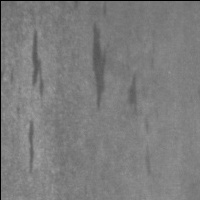inclusion: (85, 16, 116, 112), (124, 67, 159, 144), (25, 18, 51, 106), (21, 115, 47, 176), (140, 140, 159, 179)
